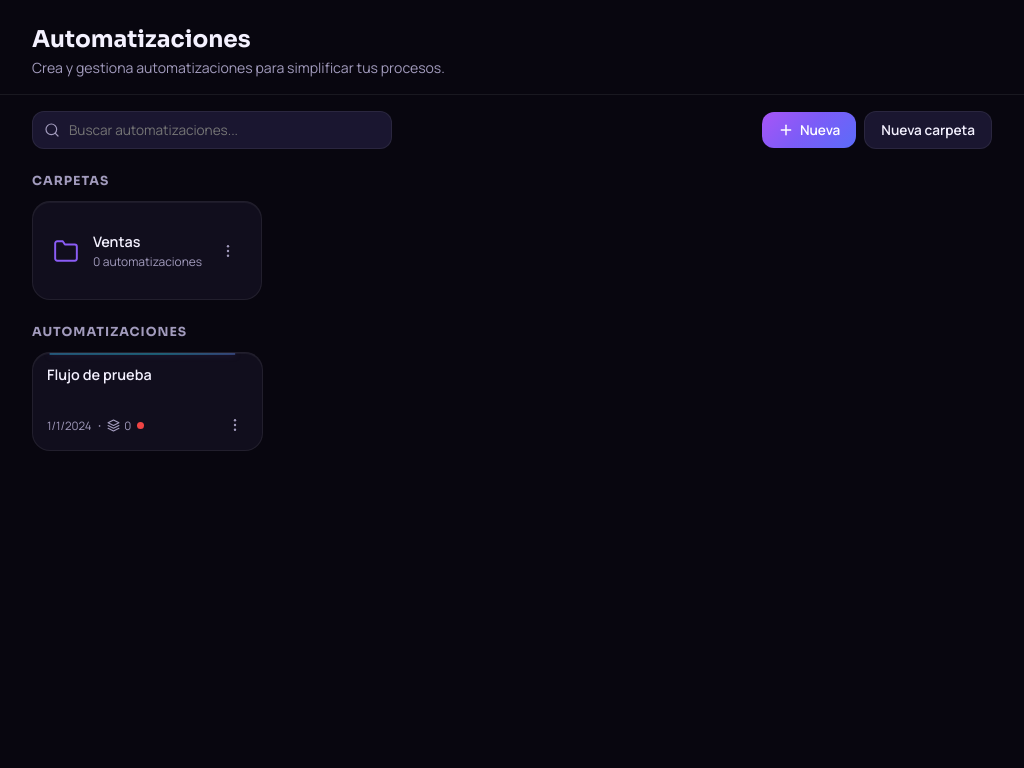
el menú se cierra como debe › al elegir una opción
The width and height of the screenshot is (1024, 768).
Expected: the text "Ventas" is shown, left=93, top=232, right=140, bottom=251
Click the button named "Acciones para Ventas": (228, 251) left=214, top=238, right=240, bottom=264
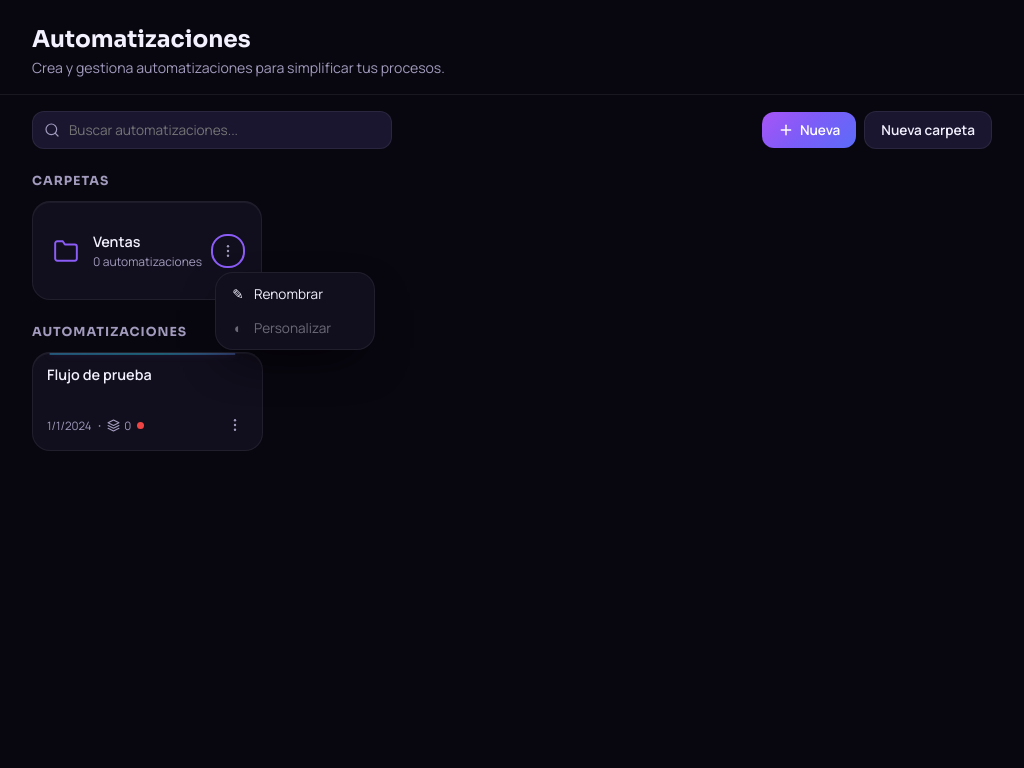
Click the menu item "✎ Renombrar": (295, 294) left=216, top=277, right=374, bottom=311
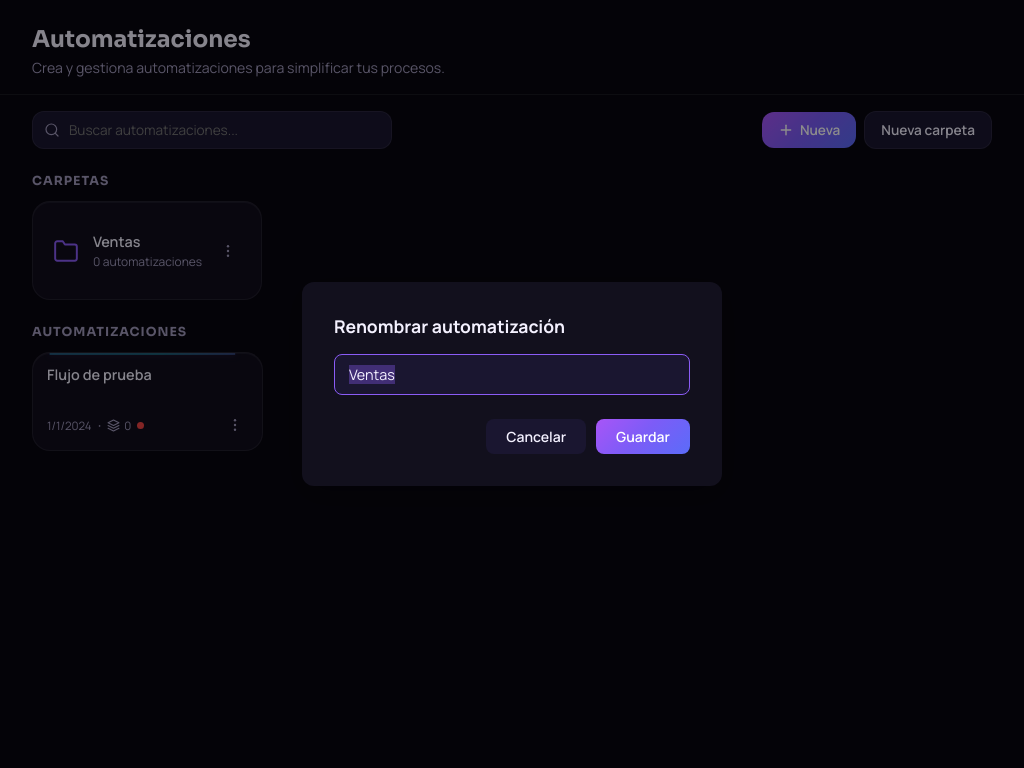
Result: the menu is gone
